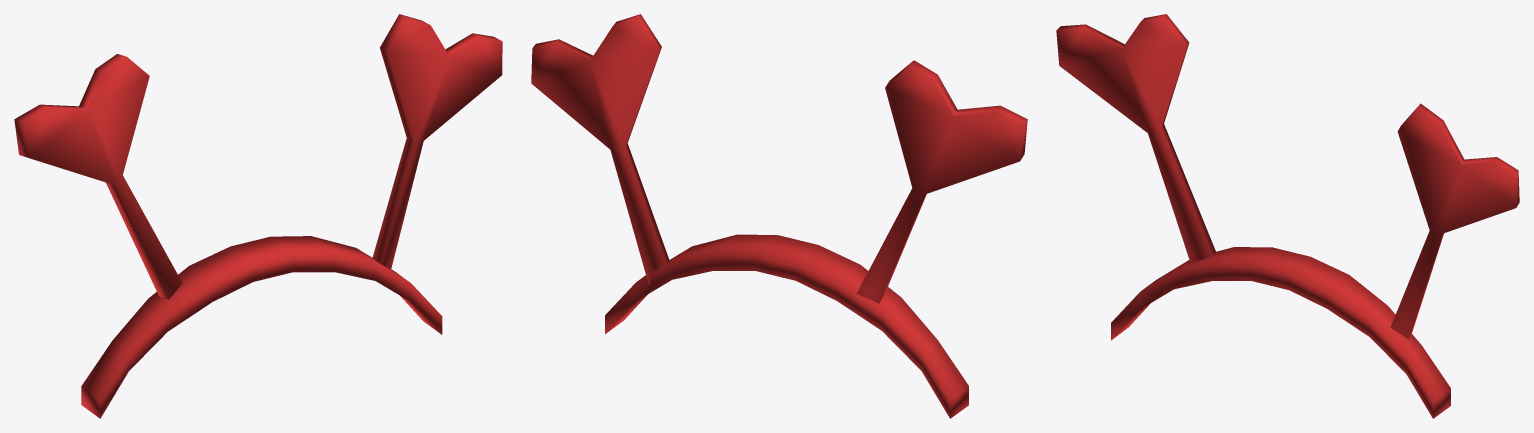
The model's file is amogus-hat-hearts.fbx.
3 views of the same model, side by side, from view 1: azimuth 30°, elevation 25°; view 2: azimuth 150°, elevation 25°; view 3: azimuth 330°, elevation 25° (orthographic). The views are drawn at different scales.
Visible parts, largest first — view 1: Hat; view 2: Hat; view 3: Hat.
Part boxes in pixels (x1=…): Hat: x1=14, y1=14, x2=502, y2=418; Hat: x1=531, y1=14, x2=1027, y2=418; Hat: x1=1056, y1=14, x2=1519, y2=418.
Size of the model in its own units: 120 by 10.37 by 81.
